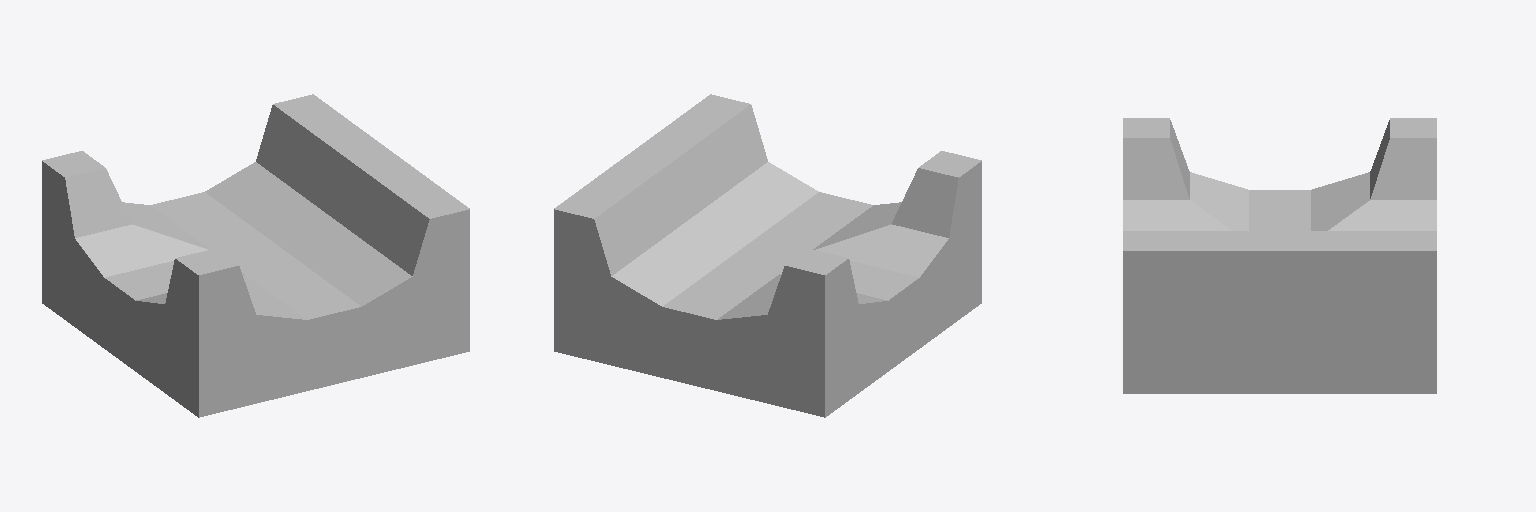
The model's file is split.obj.
3 renders of one model, left to right at view 1: azimuth 30°, elevation 25°; view 2: azimuth 150°, elevation 25°; view 3: azimuth 270°, elevation 25°, orthographic.
Parts seen in each view (by area): view 1: split; view 2: split; view 3: split.
Boxes of the visible parts, x1,y1,x2,y2 form: split: [42, 94, 469, 417]; split: [554, 94, 981, 417]; split: [1123, 118, 1436, 393].
Size of the model in its own units: 1 by 0.5 by 1.